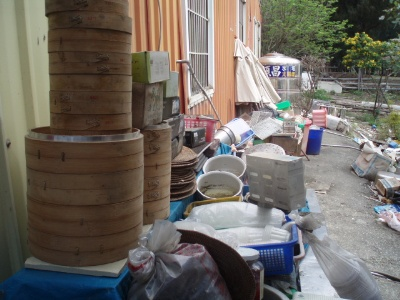bottle: (283, 118, 296, 134)
bowl: (196, 171, 244, 197), (202, 154, 246, 178)
box: (351, 144, 392, 180), (132, 82, 164, 126), (132, 51, 170, 84), (375, 177, 400, 197), (184, 126, 206, 147), (311, 108, 327, 127)
bucket: (307, 126, 323, 155), (214, 126, 235, 145)
plastic_bag: (130, 219, 232, 300), (237, 47, 265, 102)
plate: (251, 117, 282, 140)
water_tower: (259, 51, 302, 116)
